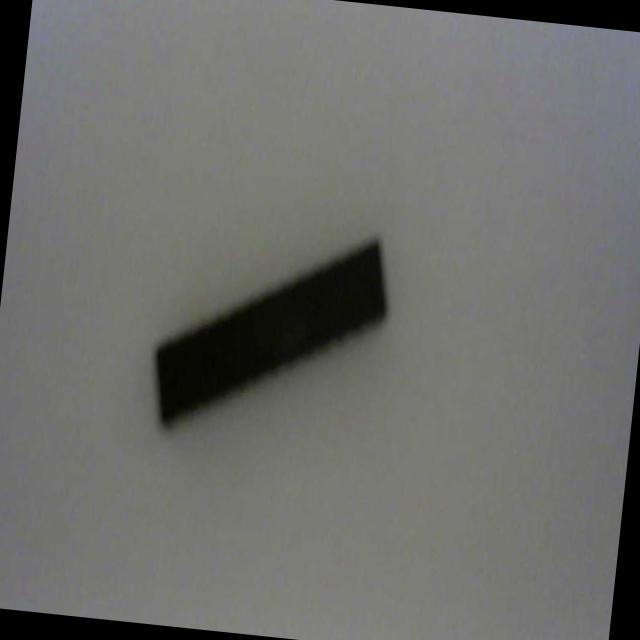atmega: (142, 209, 398, 454)
